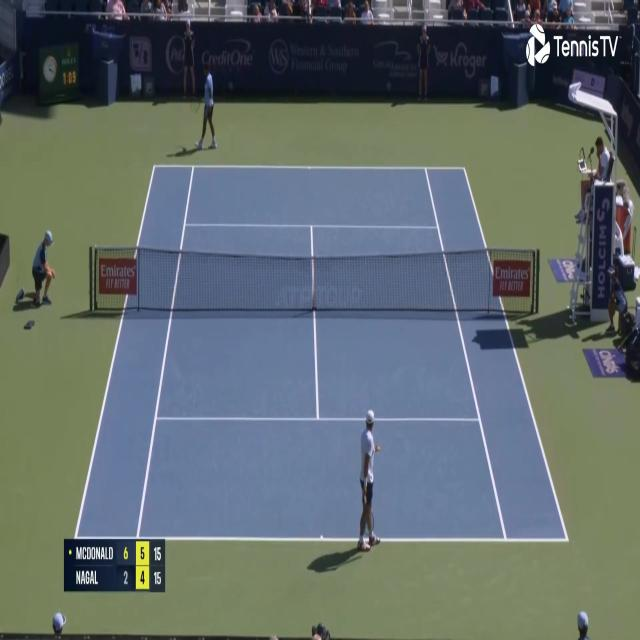tennis-player: (354, 406, 382, 558), (194, 59, 220, 152)
